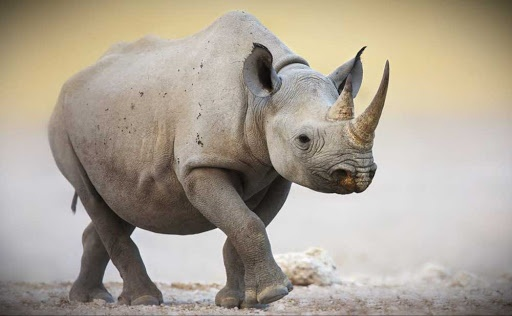rhino: (45, 8, 391, 307)
